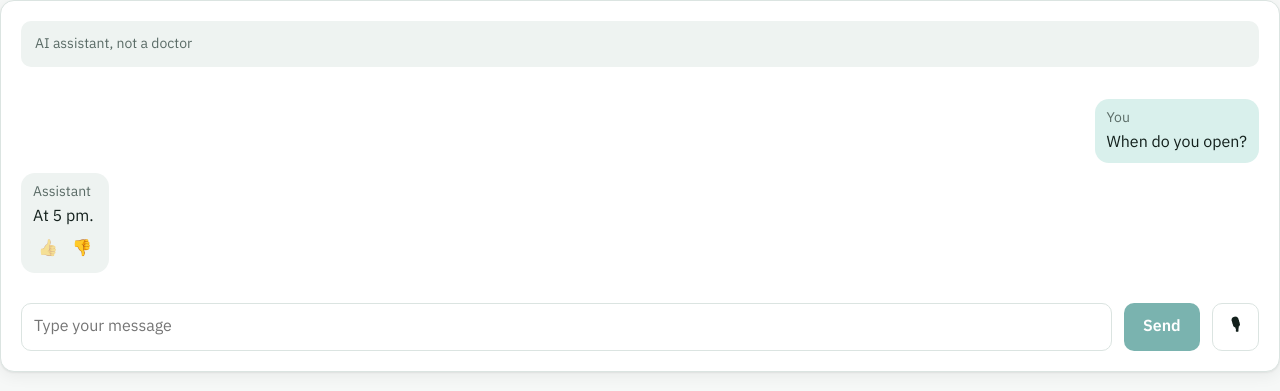
consent › rates a reply, and shows the rating given before
The width and height of the screenshot is (1280, 391).
Expected: the text "At 5 pm." is shown, [33,204,97,229]
Expected: the number of elements named "Rate this reply" is 1, [33,233,97,265]
Click the button named "Helpful". click: (48, 249)
box: [33,233,63,265]
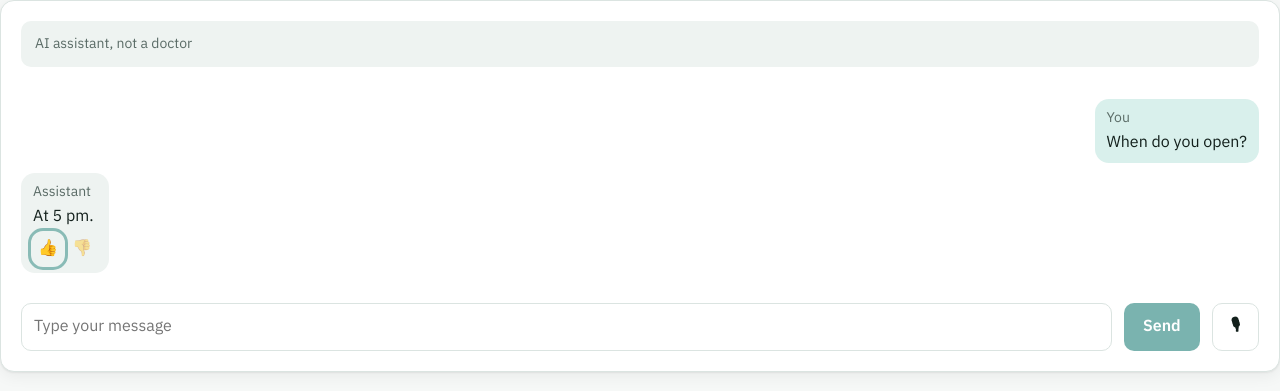
Expected: the button named "Helpful" is pressed, [33,233,63,265]
